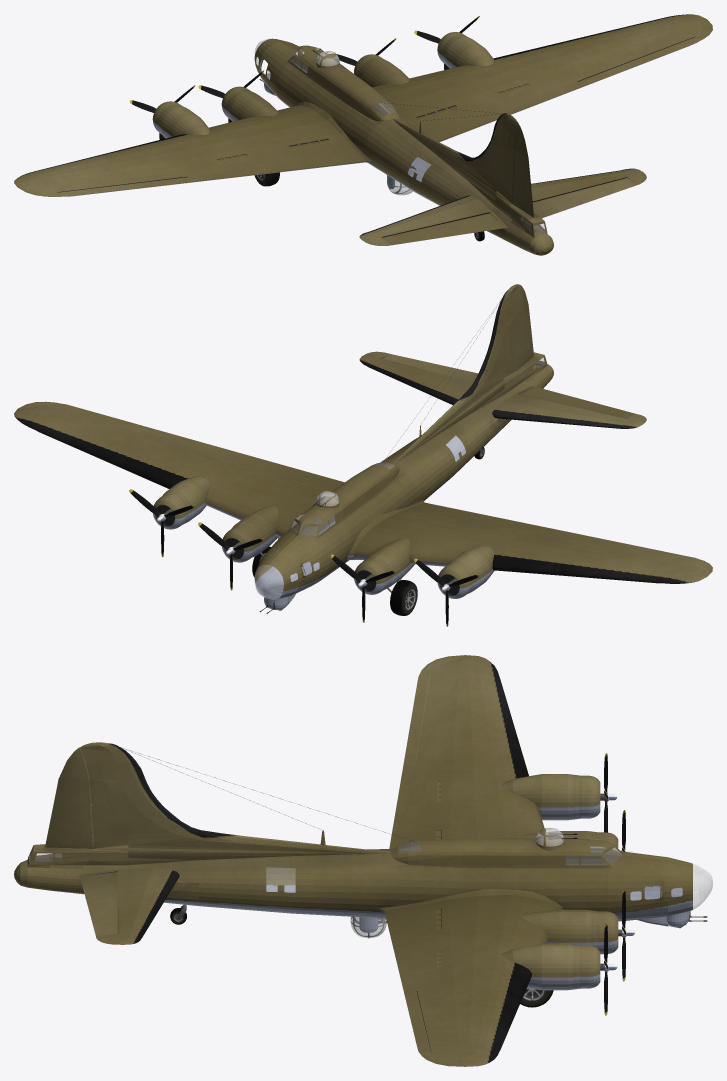
3 renders of one model, top to bottom at view 1: azimuth 30°, elevation 25°; view 2: azimuth 150°, elevation 25°; view 3: azimuth 270°, elevation 25°, orthographic. The views are drawn at different scales.
Visible parts, largest first — view 1: airframe, elevator, rudder, aileron_r, aileron_l; view 2: airframe, elevator, rudder, gear_roueG, aileron_r; view 3: airframe, rudder, elevator, aileron_l, aileron_r.
Boxes of the visible parts, x1,y1,x2,y2 form: airframe: [14, 14, 712, 255]; elevator: [382, 178, 635, 245]; rudder: [512, 127, 533, 217]; aileron_r: [578, 37, 699, 87]; aileron_l: [57, 177, 192, 196]; airframe: [14, 284, 712, 613]; elevator: [382, 354, 635, 418]; rudder: [516, 285, 533, 370]; gear_roueG: [390, 580, 417, 615]; aileron_r: [57, 403, 191, 441]; airframe: [14, 655, 712, 1066]; rudder: [45, 748, 93, 848]; elevator: [80, 810, 117, 935]; aileron_l: [404, 671, 431, 759]; aileron_r: [404, 991, 430, 1054].
Bounding box in the file's own units: 31.52 × 7.94 × 22.61.
Materials: 10 (6 with a texture image).
